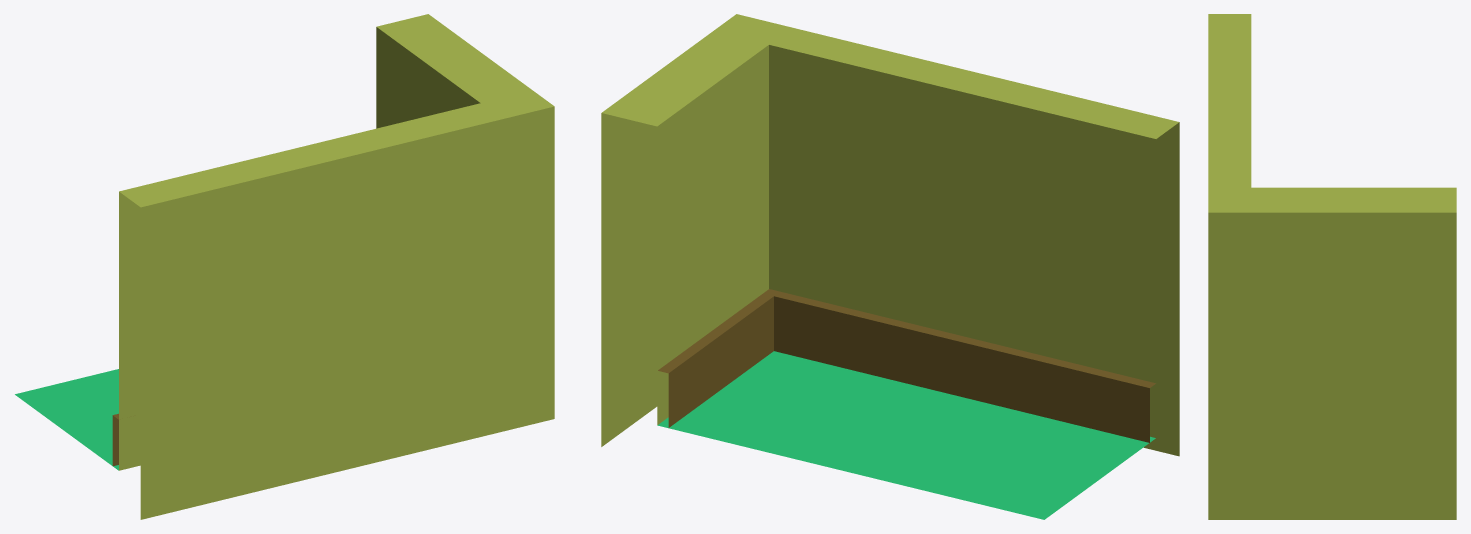
File: ModuleSC_Terr_cornB_002.FBX
3 renders of one model, left to right at view 1: azimuth 30°, elevation 25°; view 2: azimuth 150°, elevation 25°; view 3: azimuth 270°, elevation 25°, orthographic. The views are drawn at different scales.
Visible parts, largest first — view 1: ModuleSC_Terr_wall_004, ModuleSC_Terr_floo_008; view 2: ModuleSC_Terr_wall_004, ModuleSC_Terr_floo_008, ModuleSC_Terr_skboard_004; view 3: ModuleSC_Terr_wall_004.
Boxes of the visible parts, left/top/right/bottom form: ModuleSC_Terr_wall_004: left=119, top=14, right=554, bottom=519; ModuleSC_Terr_floo_008: left=15, top=369, right=118, bottom=470; ModuleSC_Terr_wall_004: left=601, top=14, right=1179, bottom=456; ModuleSC_Terr_floo_008: left=657, top=351, right=1155, bottom=519; ModuleSC_Terr_skboard_004: left=658, top=289, right=1155, bottom=442; ModuleSC_Terr_wall_004: left=1208, top=14, right=1456, bottom=519.
Bounding box in the file's own units: 49.39 × 32.49 × 23.81.
